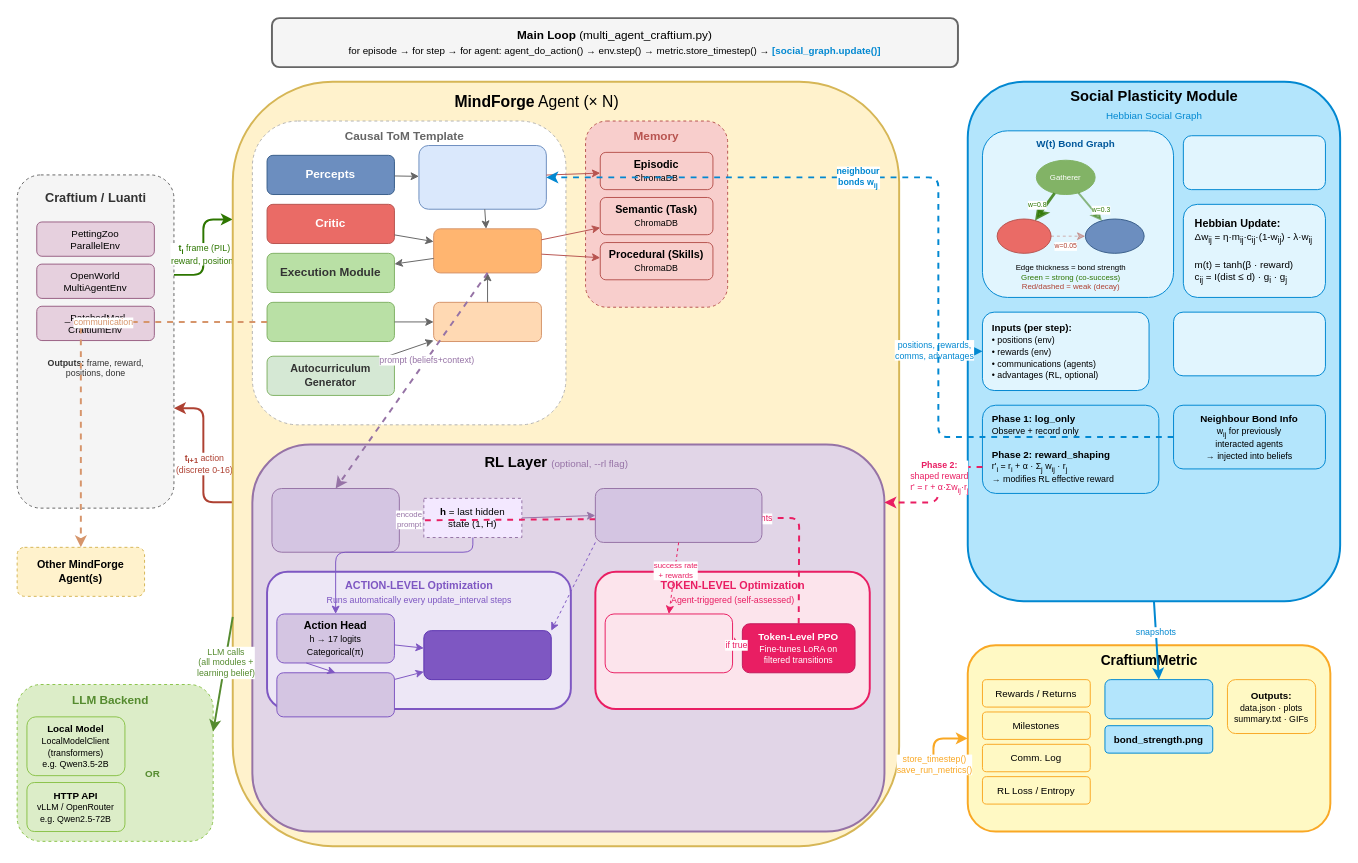
The diagram is 1358 pixels wide and 863 high, and some of its shapes have lost their labels. Each missing label, with the box of its shape:
Actions: (433, 228, 541, 273)
Base LLM + LoRA Adapter (per role: gatherer/ hunter/defender): (271, 488, 399, 552)
Beliefs perception · partner interaction · task + neighbour bonds: (418, 145, 546, 209)
Comm. Module: (266, 301, 394, 342)
Config η=0.01 λ=0.001 β=1.0 proximity_d=10 w₀=0.1: (1182, 135, 1325, 190)
Defender: (1084, 218, 1144, 253)
Desires (Task): (433, 301, 541, 342)
Hunter: (996, 218, 1051, 253)
Learning Belief LLM evaluates own success rate + reward trend → needs_training?: (604, 613, 733, 673)
MAPPO PPO clip + GAE updates heads: (423, 630, 551, 680)
Social Graph Snapshots: (1104, 679, 1213, 719)
Social Metrics mean_weight · sparsity reciprocity · degree intra/inter_role_mean: (1173, 311, 1325, 376)
Trajectory Buffer (prompt, action_idx, log_prob, value, reward, done): (594, 488, 762, 542)
Value Head h → V(s) (state value): (276, 672, 394, 717)
